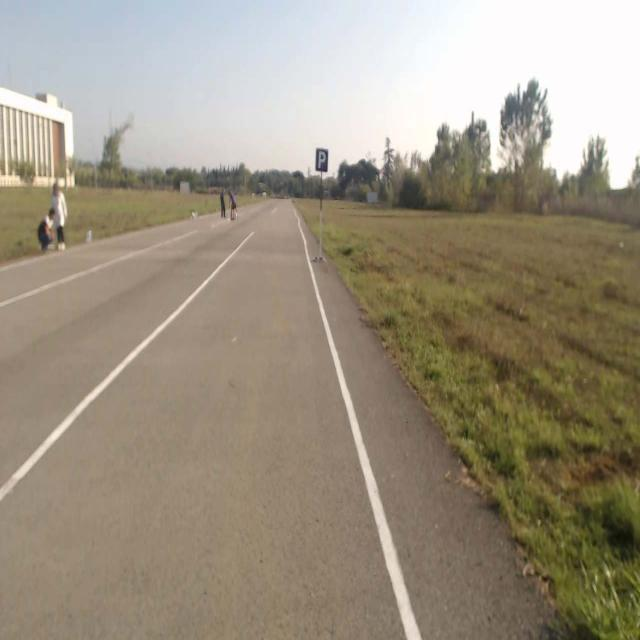park: (316, 148, 328, 172)
